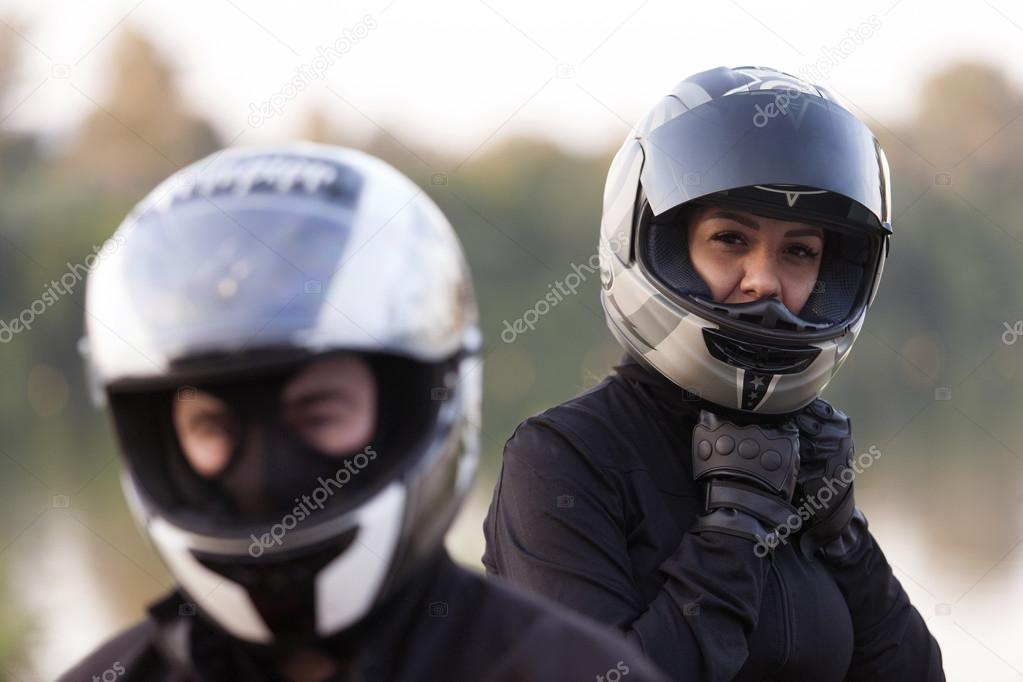helmet: (96, 172, 495, 598), (610, 91, 881, 413)
